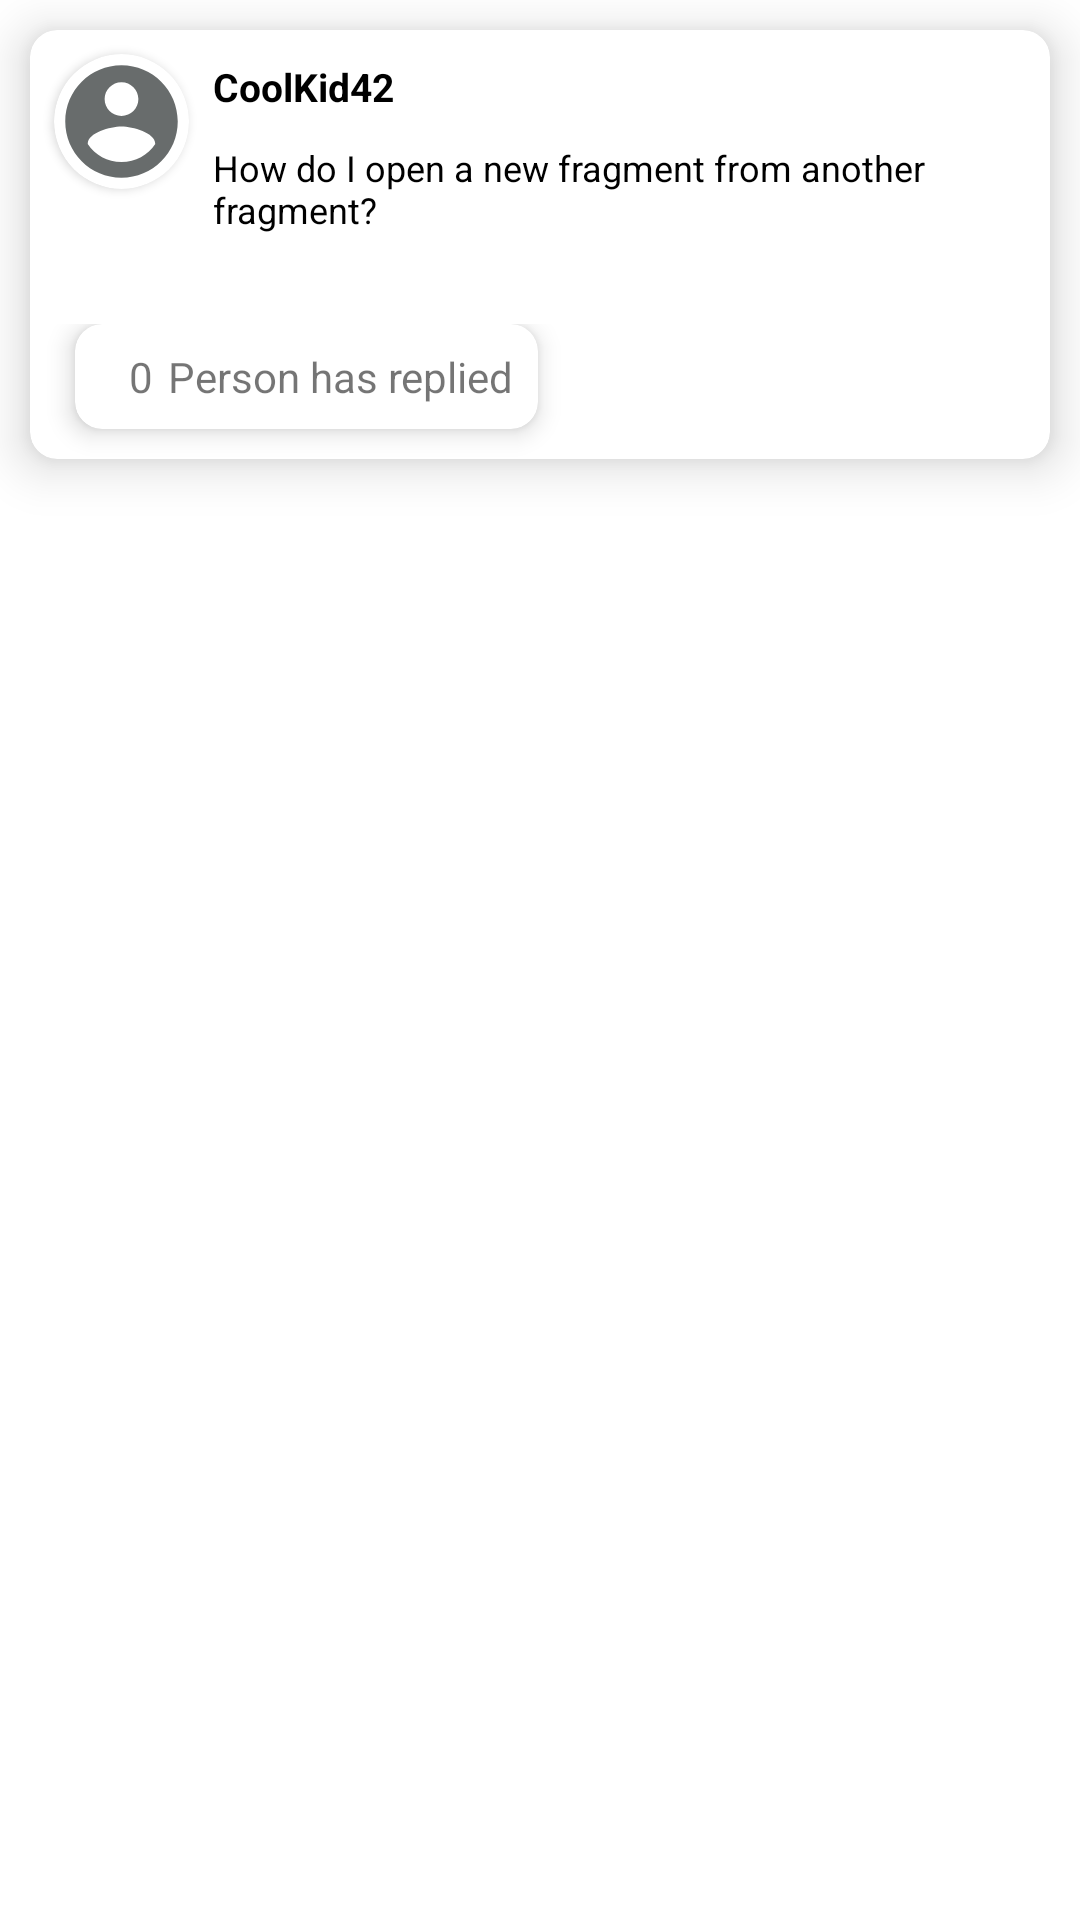

Icons on this 1080 x 1920 Android screen, each with its box as (x1, y1, x2, y2):
account: (65, 65, 178, 178)
